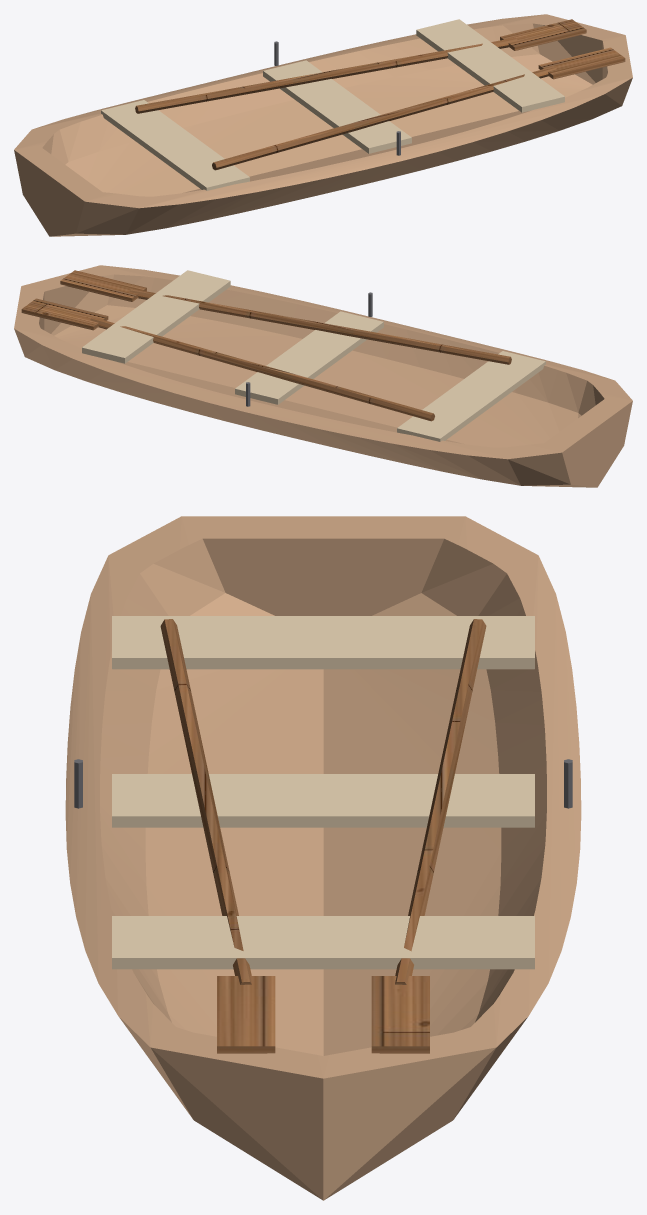
File: rowboat.glb
3 renders of one model, top to bottom at view 1: azimuth 30°, elevation 25°; view 2: azimuth 150°, elevation 25°; view 3: azimuth 270°, elevation 25°, orthographic. The views are drawn at different scales.
Visible parts, largest first — view 1: rowboat_boat, rowboat_boat_in, rowboat_wood; view 2: rowboat_boat, rowboat_boat_in, rowboat_wood; view 3: rowboat_boat, rowboat_boat_in, rowboat_wood.
Boxes of the visible parts, x1,y1,x2,y2 form: rowboat_boat: (14, 14, 632, 236); rowboat_boat_in: (101, 19, 564, 190); rowboat_wood: (135, 19, 625, 170); rowboat_boat: (14, 265, 632, 487); rowboat_boat_in: (82, 270, 545, 441); rowboat_wood: (21, 270, 511, 421); rowboat_boat: (65, 516, 581, 1200); rowboat_boat_in: (112, 616, 534, 969); rowboat_wood: (160, 619, 486, 1053).
Bounding box in the file's own units: 3.2 × 0.42 × 1.24.
4 materials, 1 textured.
